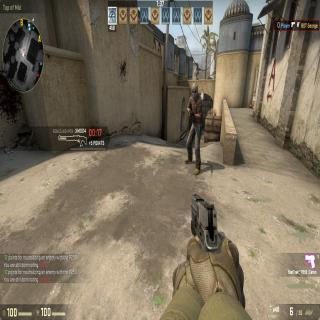T-Body: (186, 82, 204, 175)
T-Head: (191, 81, 198, 101)
